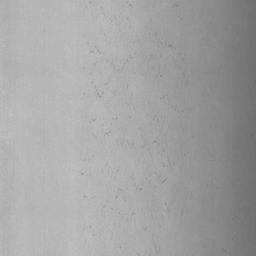Silk spot: (134, 140, 175, 201), (83, 42, 136, 75), (144, 32, 176, 73), (103, 188, 128, 210), (91, 81, 108, 98)
